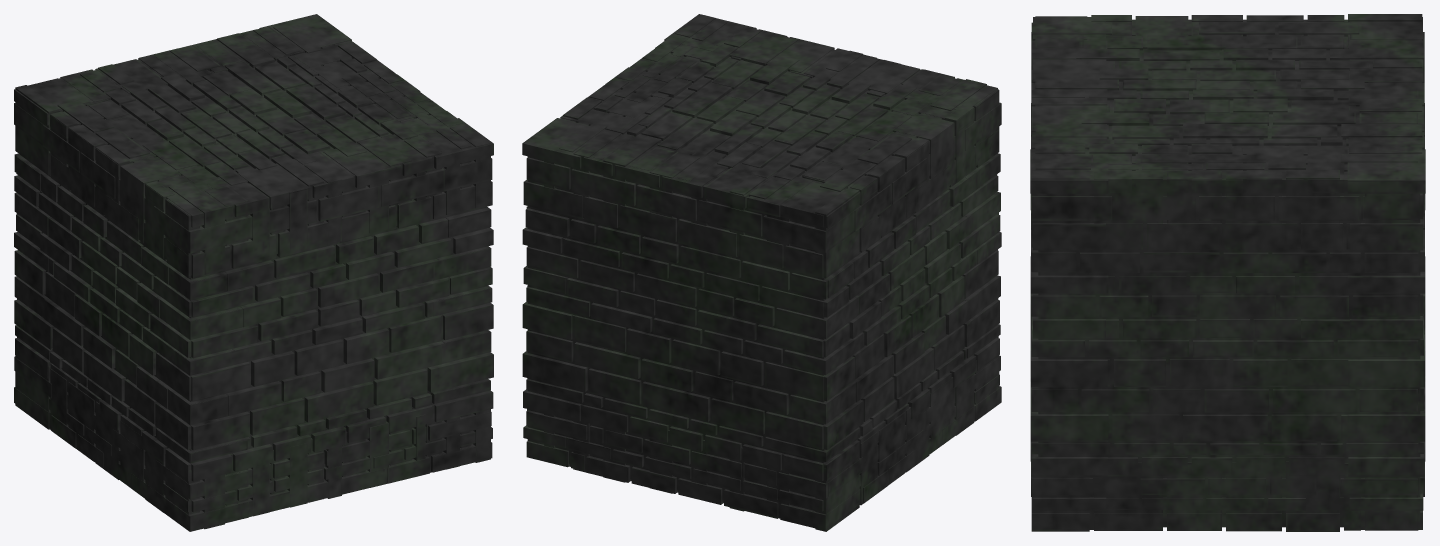
Rendered from Stone Block.fbx.
3 renders of one model, left to right at view 1: azimuth 30°, elevation 25°; view 2: azimuth 150°, elevation 25°; view 3: azimuth 270°, elevation 25°, orthographic. The views are drawn at different scales.
Visible parts, largest first — view 1: Cube; view 2: Cube; view 3: Cube.
Part boxes in pixels (bbox=[...]): Cube: bbox=[14, 14, 493, 531]; Cube: bbox=[522, 14, 1001, 531]; Cube: bbox=[1030, 14, 1425, 531].
Bounding box in the file's own units: 103 × 102 × 103.
